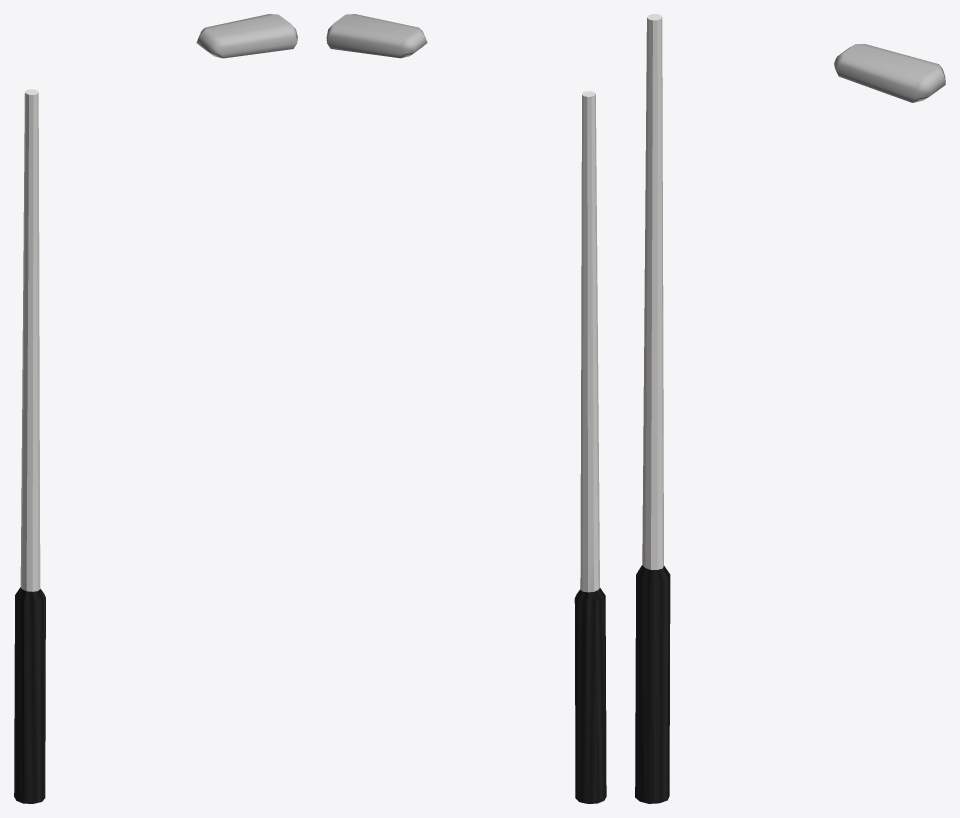
The model's file is StreetLight_03.fbx.
3 renders of one model, left to right at view 1: azimuth 30°, elevation 25°; view 2: azimuth 150°, elevation 25°; view 3: azimuth 330°, elevation 25°, orthographic. The views are drawn at different scales.
Parts seen in each view (by area): view 1: StreetLight_03; view 2: StreetLight_03; view 3: StreetLight_03.
Part boxes in pixels (x1,y1,x2,y2): StreetLight_03: (14, 14, 297, 803); StreetLight_03: (326, 14, 606, 803); StreetLight_03: (635, 14, 945, 803).
Size of the model in its own units: 6.99 by 17.83 by 1.19.
